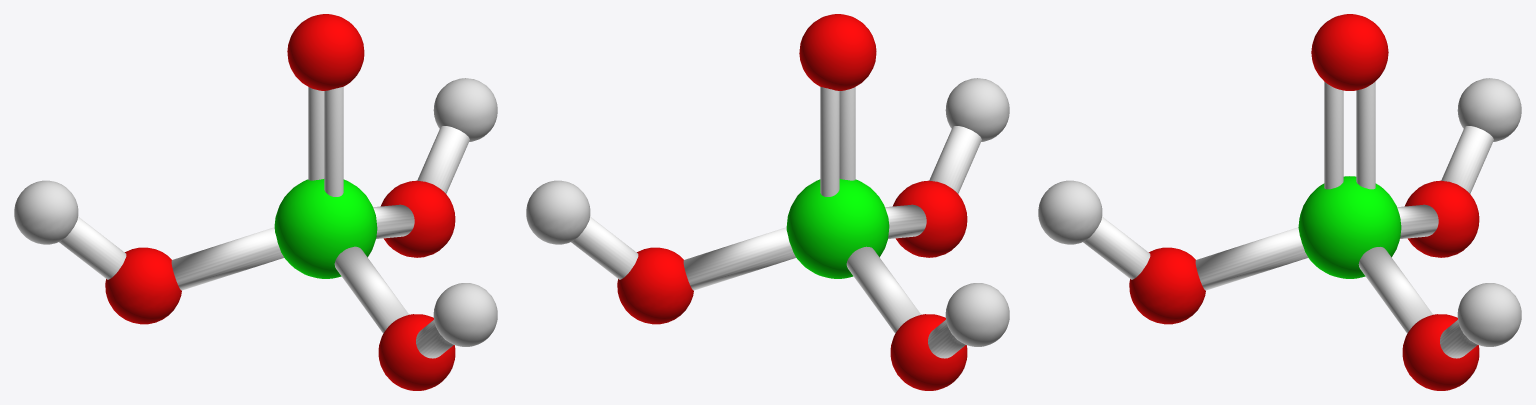
3 views of the same model, side by side, from view 1: azimuth 30°, elevation 25°; view 2: azimuth 150°, elevation 25°; view 3: azimuth 270°, elevation 25° (orthographic).
Visible parts, largest first — view 1: b1; view 2: b1; view 3: b1.
Boxes of the visible parts, left/top/right/bottom form: b1: left=14, top=14, right=497, bottom=390; b1: left=526, top=14, right=1009, bottom=390; b1: left=1038, top=14, right=1521, bottom=390.
Bounding box in the file's own units: 852 × 520 × 751.
